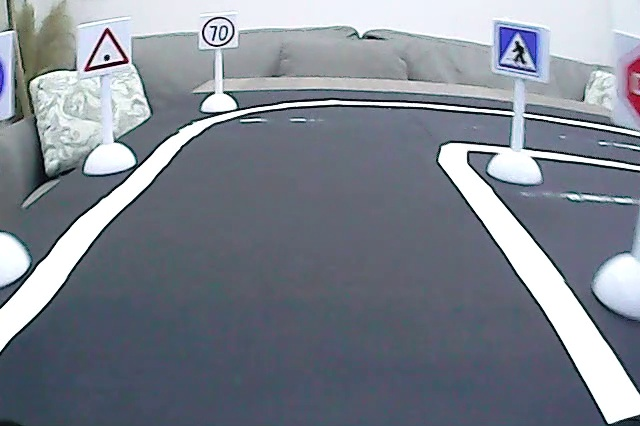green light: (82, 24, 131, 74)
pedestrian crossing: (493, 22, 544, 79)
speed limit 70: (199, 13, 237, 49)
